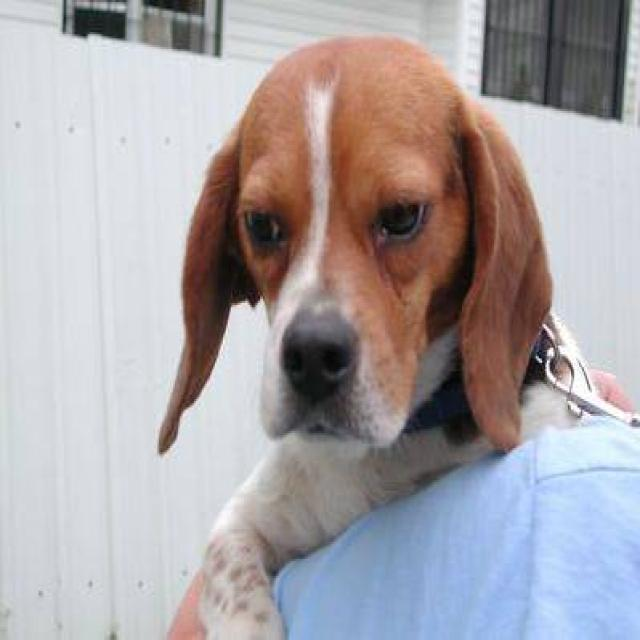dog: (154, 32, 626, 638)
